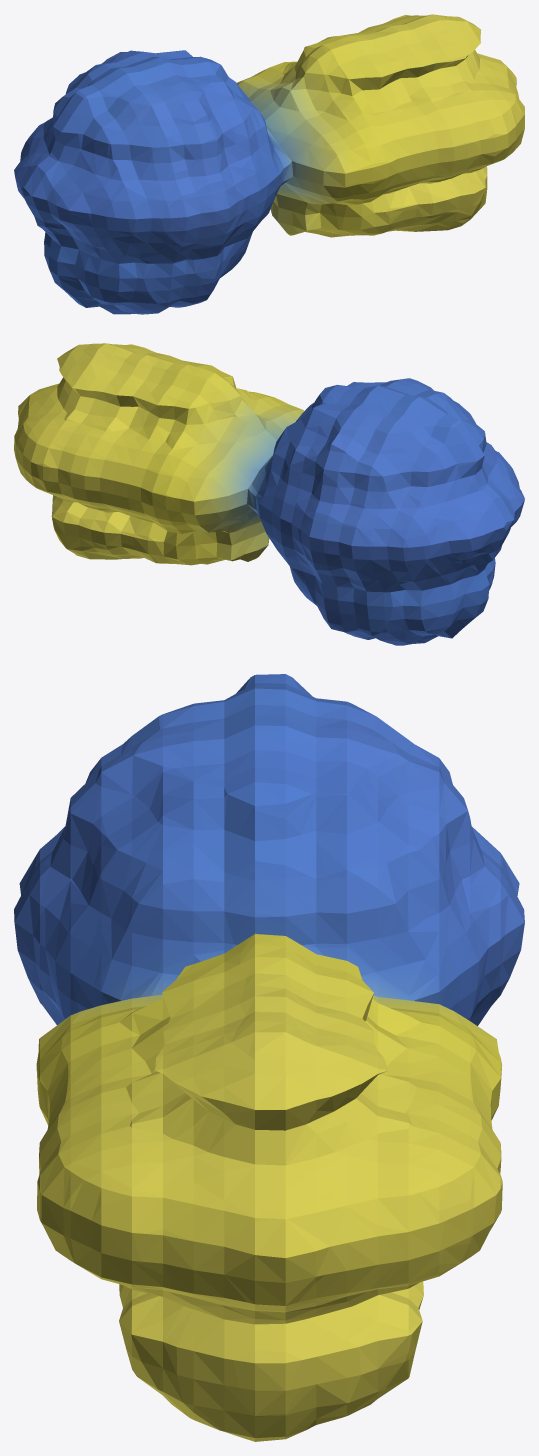
The picture shows the model from 3 angles, top to bottom: view 1: azimuth 30°, elevation 25°; view 2: azimuth 150°, elevation 25°; view 3: azimuth 270°, elevation 25°; orthographic projection. The views are drawn at different scales.
Parts seen in each view (by area): view 1: geometry_0; view 2: geometry_0; view 3: geometry_0.
Boxes of the visible parts, x1,y1,x2,y2 form: geometry_0: (14,14,524,314); geometry_0: (14,343,524,645); geometry_0: (14,674,524,1441).
Size of the model in its own units: 1.53 by 0.7257 by 0.708.
